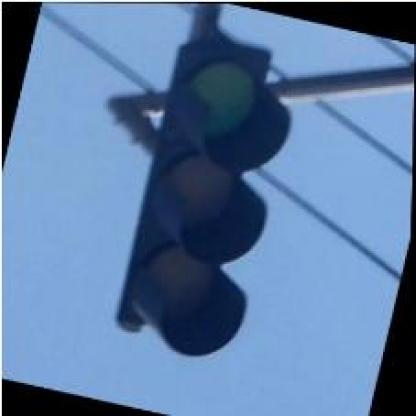green: (108, 26, 306, 366)
